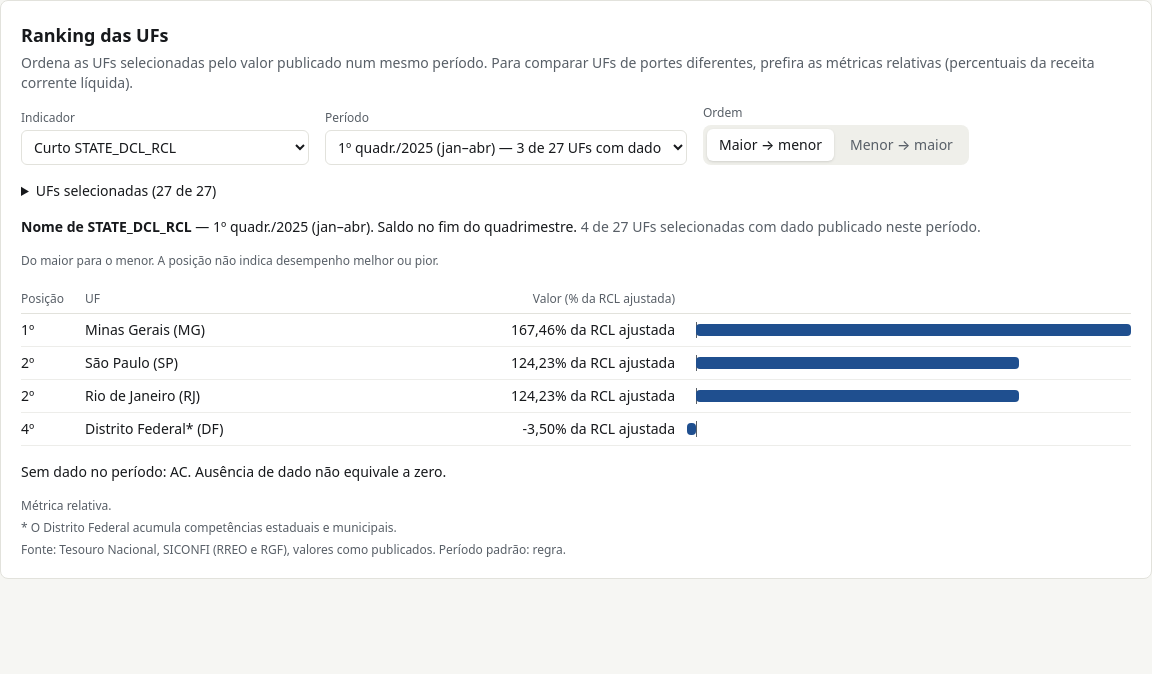
Test case: StateRankingPanel › sends the selected UFs and order; fewer than two UFs keep the previous selection
The width and height of the screenshot is (1152, 674).
Check: the table is shown, box [21, 285, 1131, 446]
Click the button "Menor → maior": (902, 145) [838, 129, 965, 161]
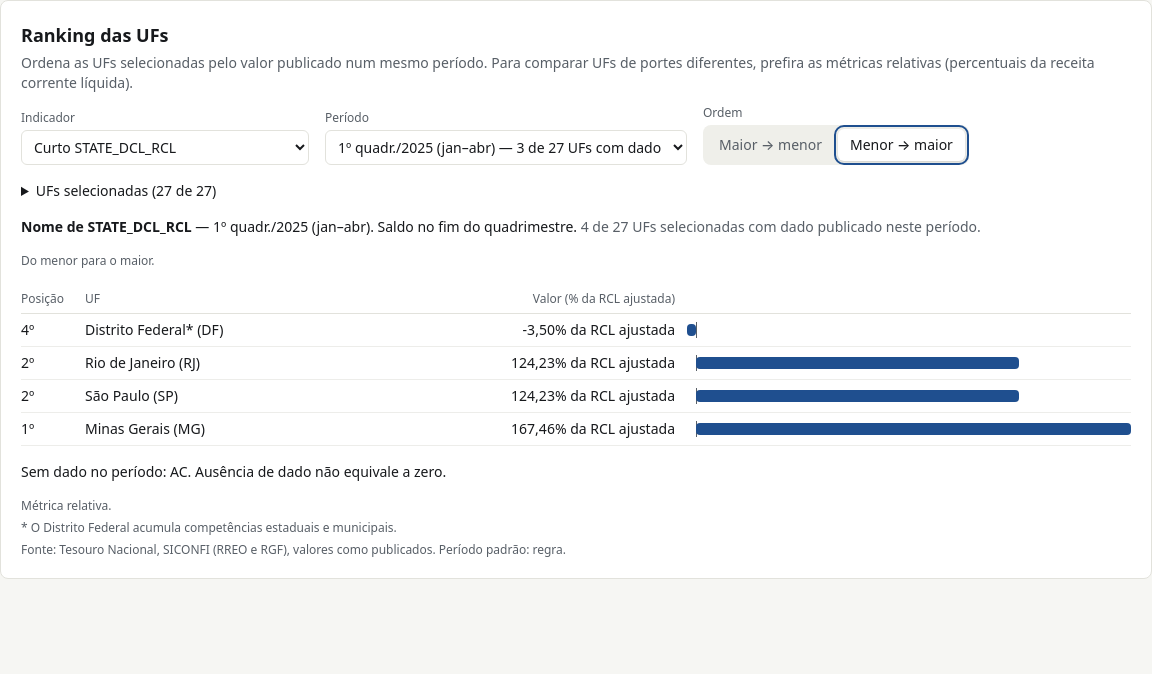
Click the heading "UFs selecionadas (27 de 27)": (126, 190) [36, 181, 216, 200]
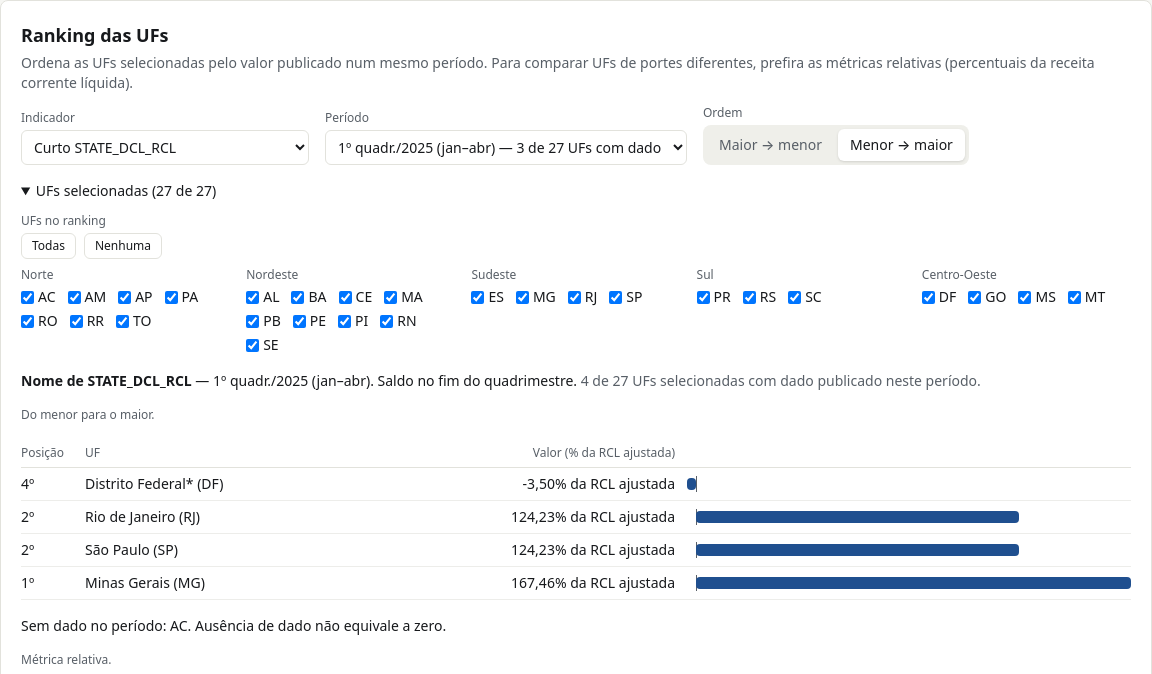
Click the button "Nenhuma": (123, 246) [84, 233, 162, 259]
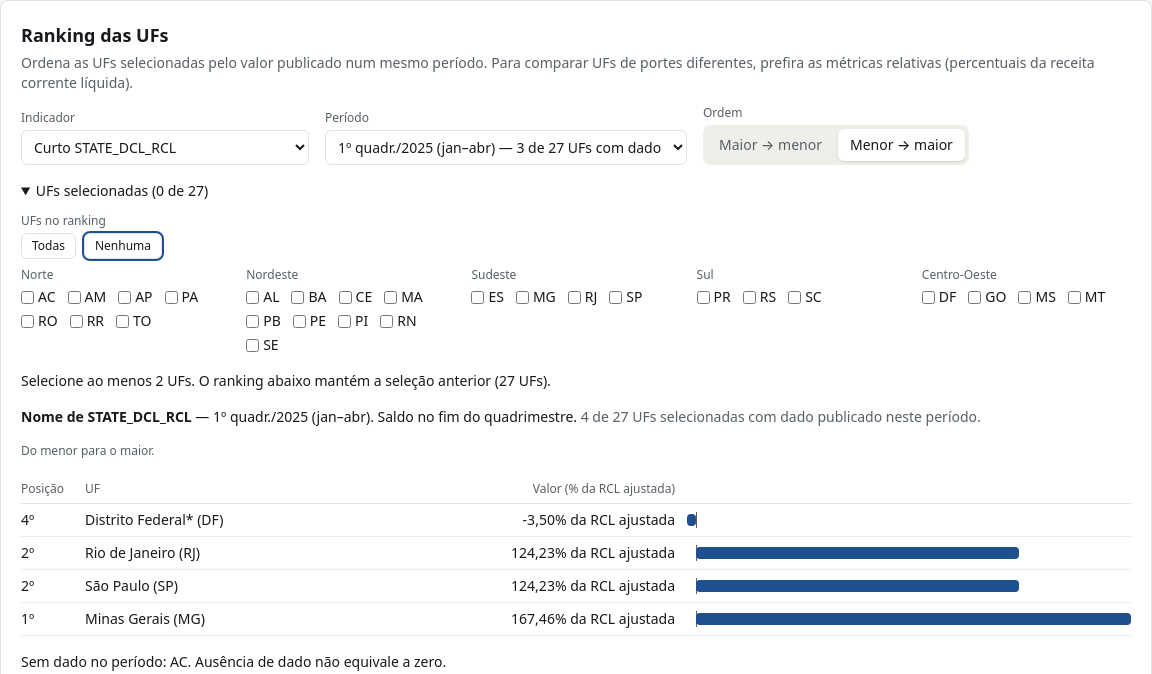
Check: the message shows "Selecione ao menos 2 UFs", box [21, 371, 551, 390]
Click the checkbox named "SP (São Paulo)": (616, 297) [609, 290, 622, 304]
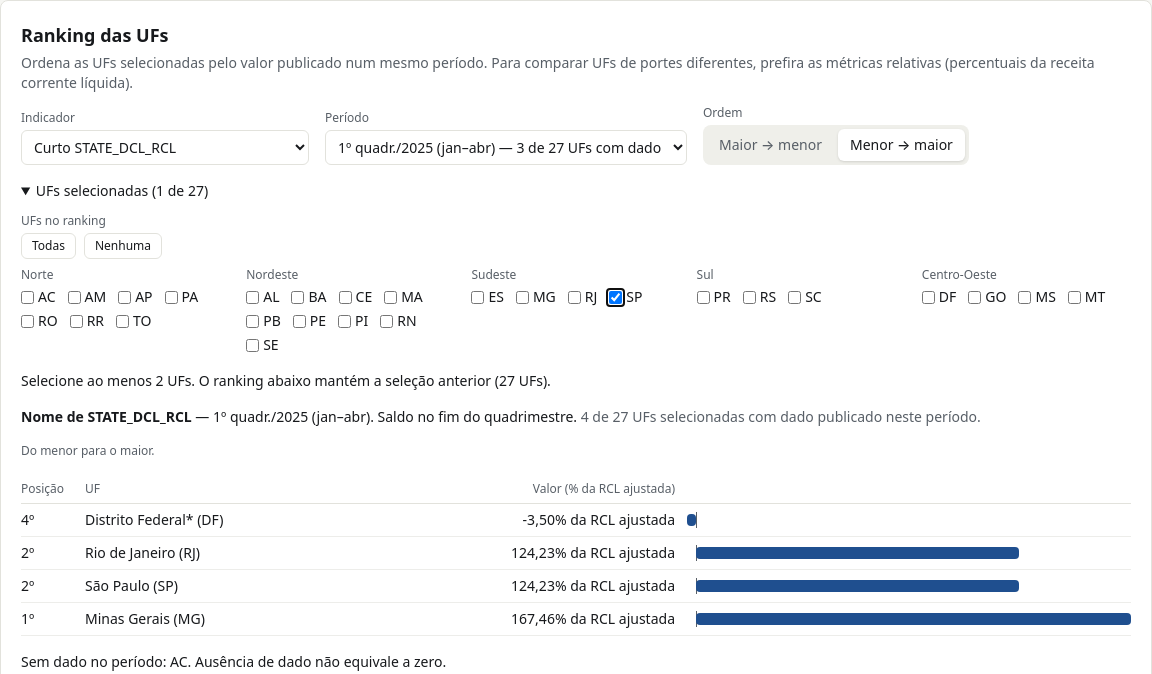
Click the checkbox named "MG (Minas Gerais)": (522, 297) [516, 290, 529, 304]
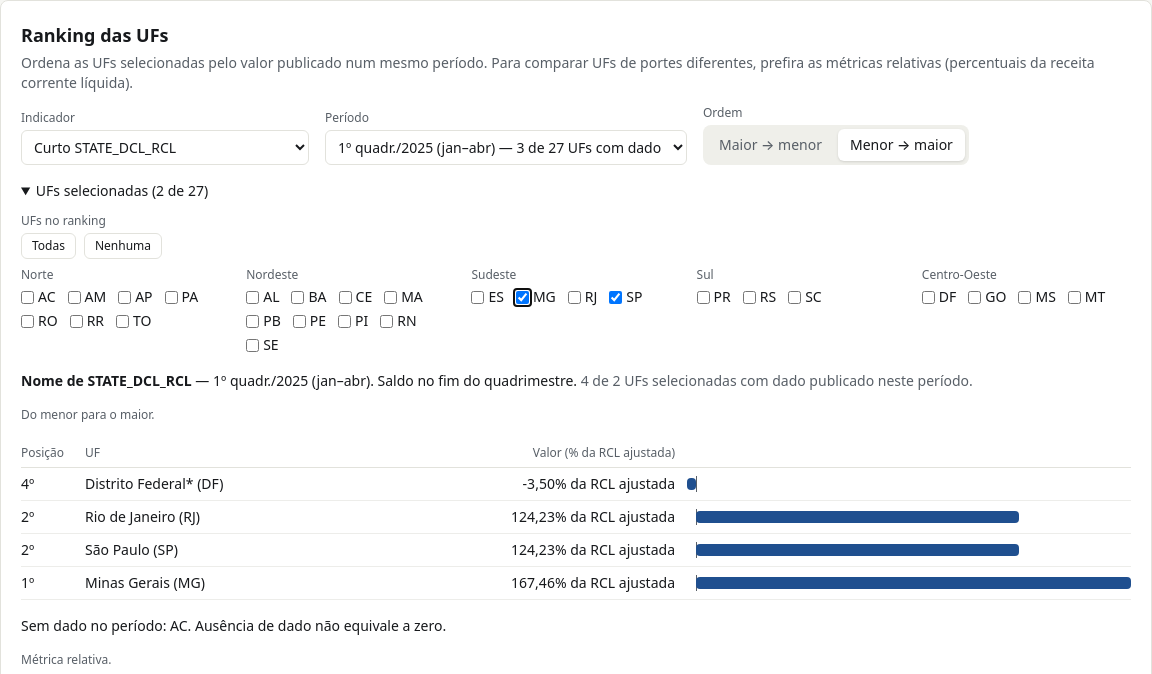
Check: the message "Selecione ao menos 2 UFs. O ranking abaixo mantém a seleção anterior (27 UFs)." is gone
